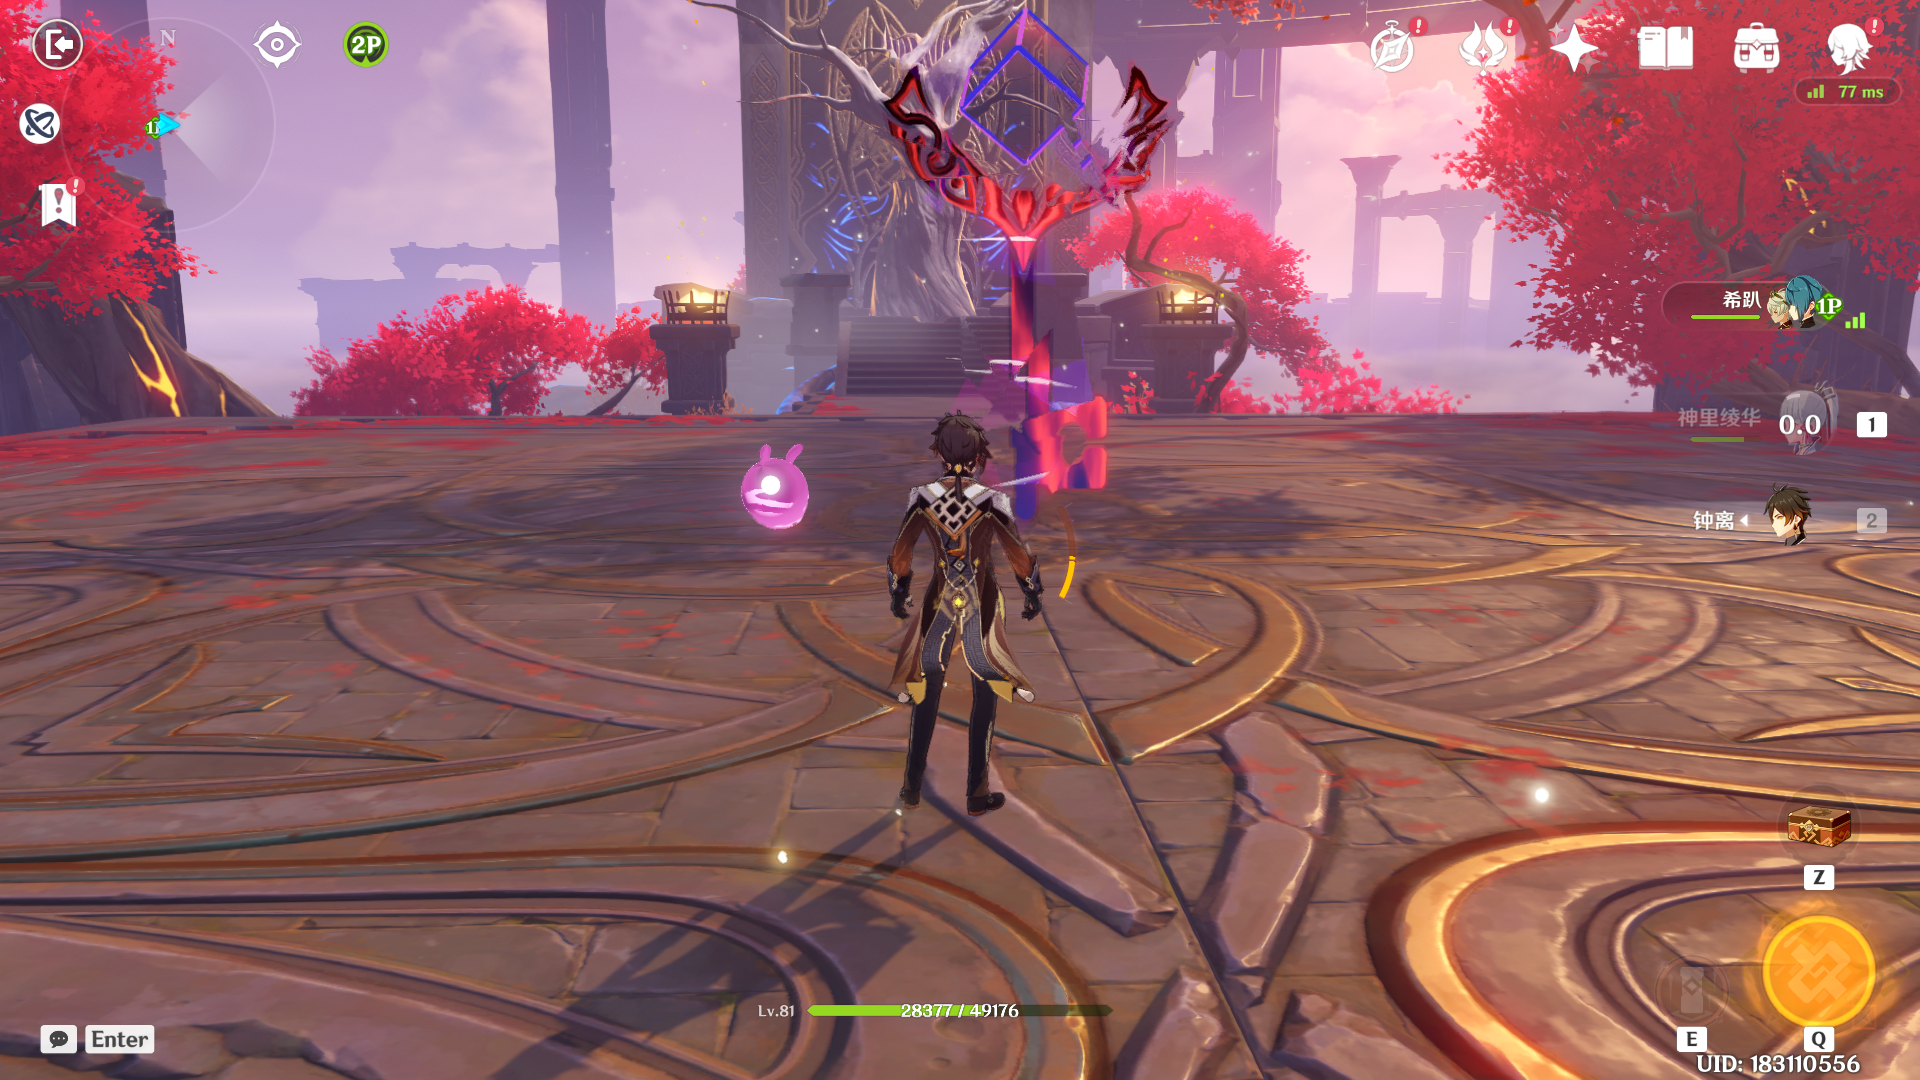character: (845, 385, 1079, 819)
